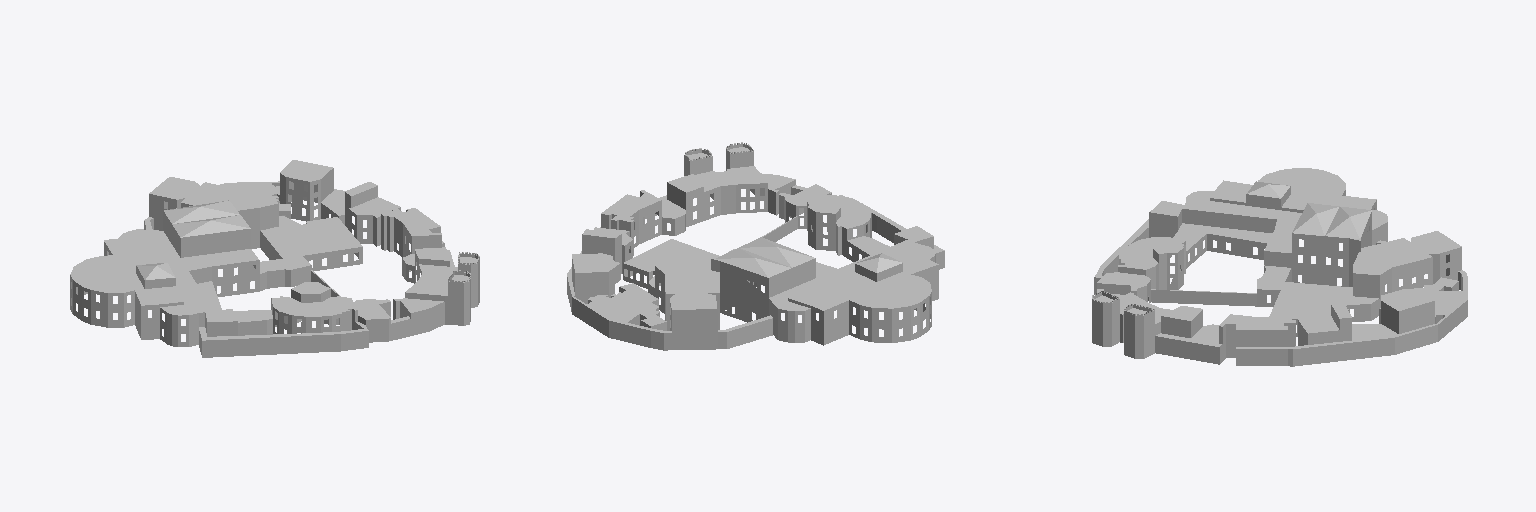
Rendered from castleDestroyed.obj.
The picture shows the model from 3 angles: view 1: azimuth 30°, elevation 25°; view 2: azimuth 150°, elevation 25°; view 3: azimuth 270°, elevation 25°; orthographic projection.
Visible parts, largest first — view 1: group_0_ID4; view 2: group_0_ID4; view 3: group_0_ID4.
Part boxes in pixels (x1,y1,x2,y2): group_0_ID4: (70,160,479,357); group_0_ID4: (567,142,944,350); group_0_ID4: (1092,168,1467,366).
Size of the model in its own units: 106 by 17.38 by 103.